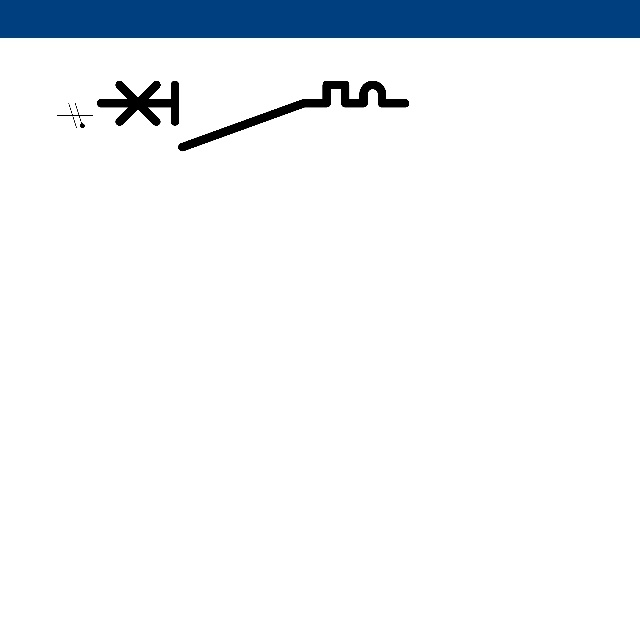interruptor_termomagnetico: (93, 77, 412, 155)
